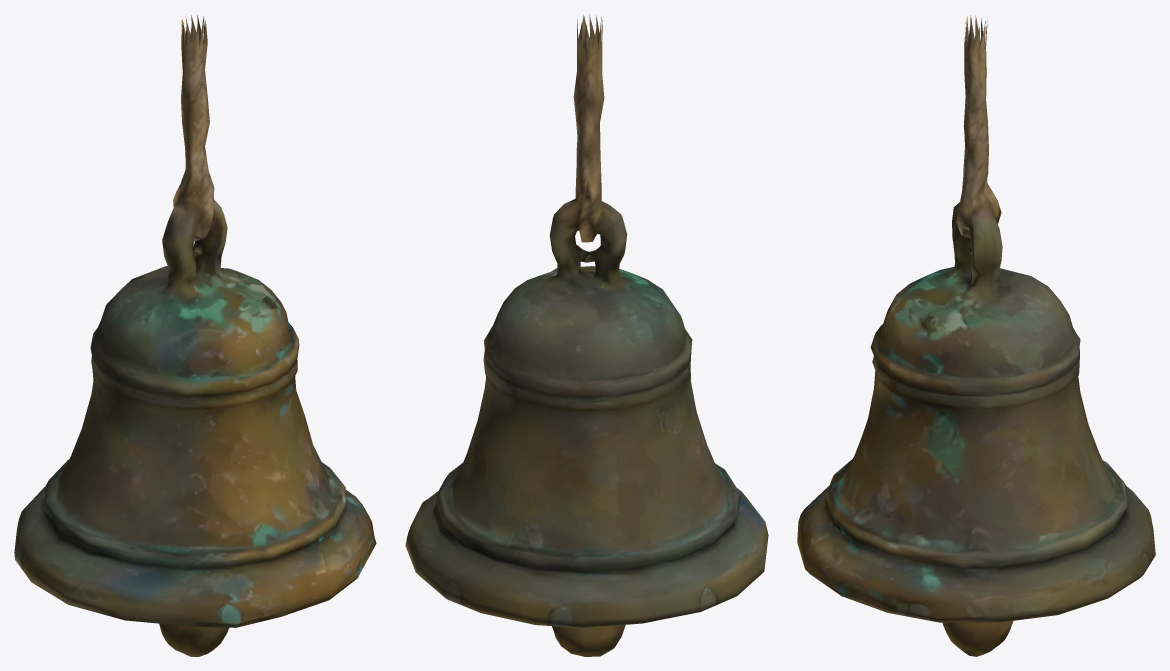
The model's file is gate_bell.obj.
3 views of the same model, side by side, from view 1: azimuth 30°, elevation 25°; view 2: azimuth 150°, elevation 25°; view 3: azimuth 270°, elevation 25° (orthographic).
Visible parts, largest first — view 1: gate_bell; view 2: gate_bell; view 3: gate_bell.
Part boxes in pixels (x1=…): gate_bell: x1=14, y1=15, x2=376, y2=656; gate_bell: x1=405, y1=14, x2=768, y2=656; gate_bell: x1=797, y1=15, x2=1155, y2=656.
Size of the model in its own units: 0.3082 by 0.6 by 0.3086.
1 material, 1 textured.
